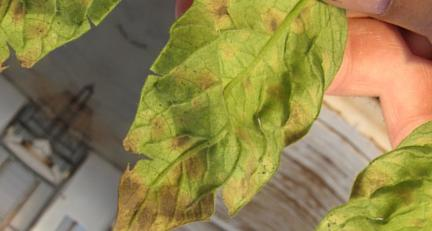Tomato mold leaf: (9, 0, 391, 231)
